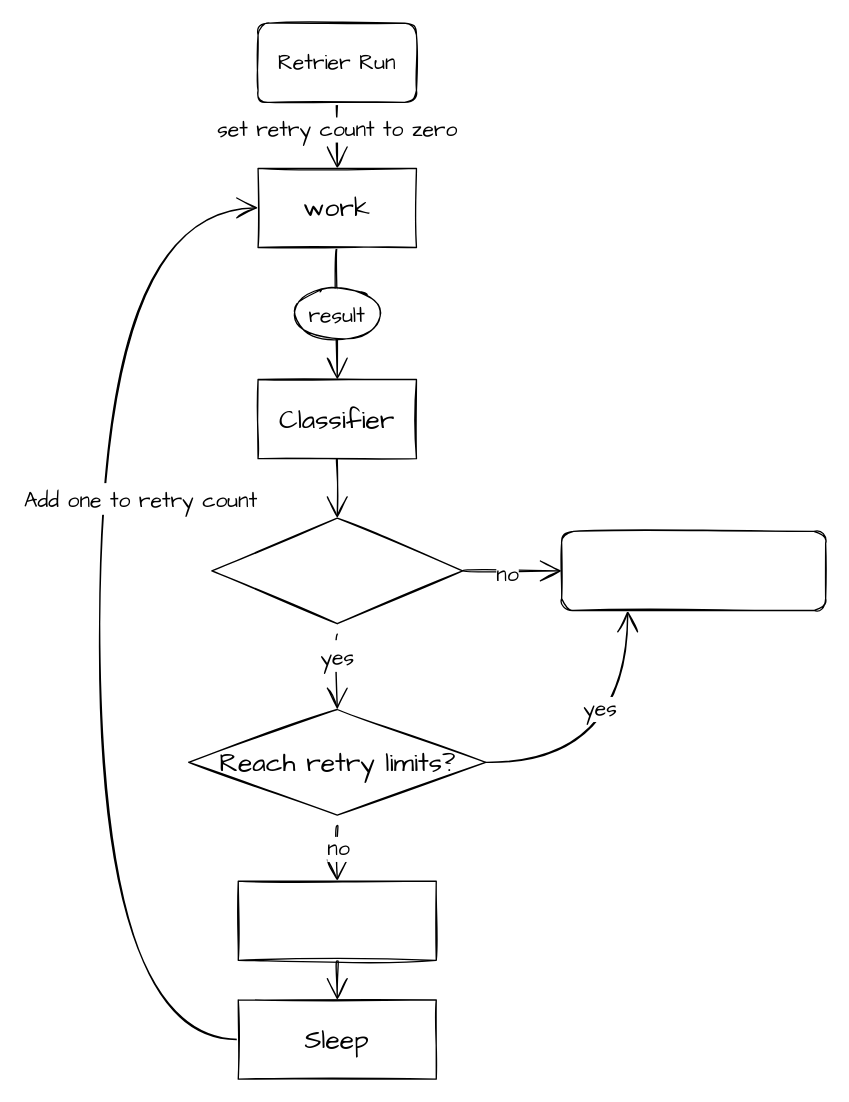
The diagram is 849 pixels wide and 1102 high, and some of its shapes have lost their labels. The shapes that lost their labels are listed below. From the top down, each one's centre as x and y in pixels, then its label:
the point at 337,570: Action is Retry?
the point at 693,570: Retrier return result
the point at 336,920: calcSleepTime
